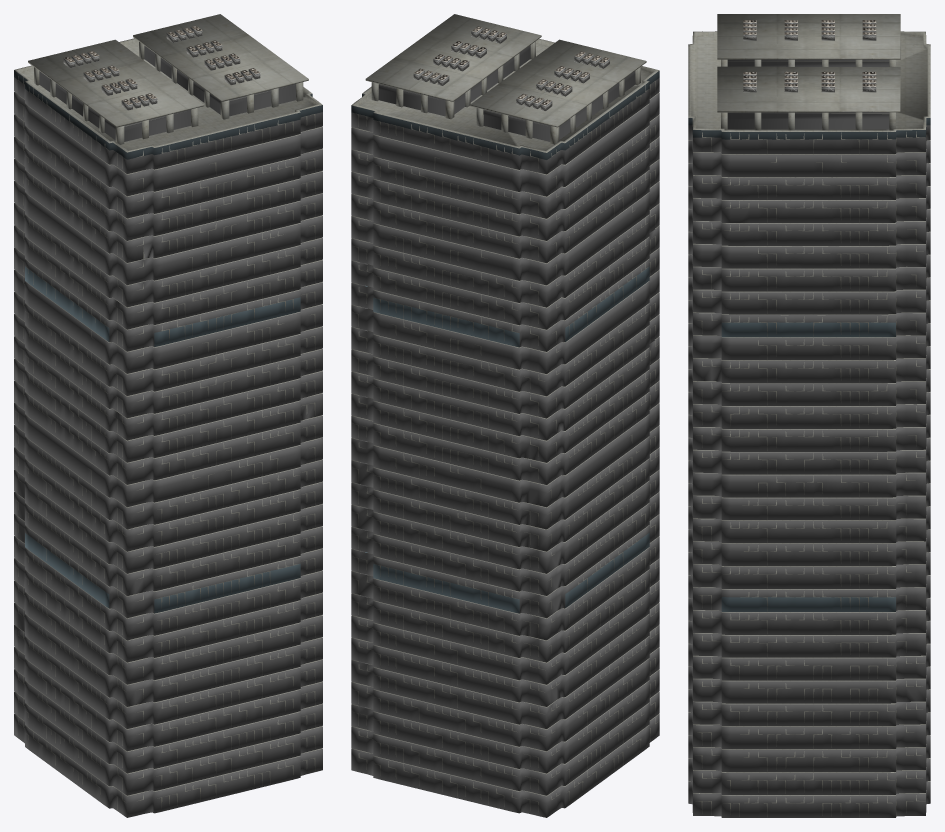
The model's file is Building 4.glb.
The picture shows the model from 3 angles, left to right: view 1: azimuth 30°, elevation 25°; view 2: azimuth 150°, elevation 25°; view 3: azimuth 270°, elevation 25°; orthographic projection. The views are drawn at different scales.
Visible parts, largest first — view 1: HK Building 4; view 2: HK Building 4; view 3: HK Building 4.
Part boxes in pixels (box(x1,y1,x2,y2)): HK Building 4: box(14, 14, 322, 817); HK Building 4: box(351, 14, 659, 817); HK Building 4: box(688, 14, 930, 817).
Size of the model in its own units: 21.78 by 70.45 by 21.78.
6 materials, 3 textured.
